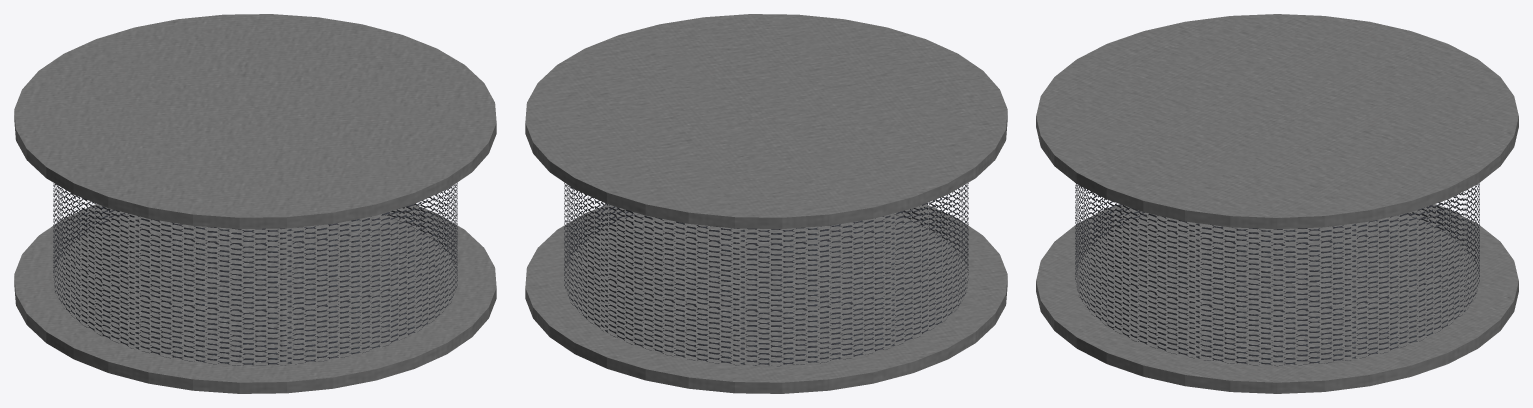
File: hat.fbx
3 renders of one model, left to right at view 1: azimuth 30°, elevation 25°; view 2: azimuth 150°, elevation 25°; view 3: azimuth 270°, elevation 25°, orthographic.
Visible parts, largest first — view 1: Hat; view 2: Hat; view 3: Hat.
Part boxes in pixels (box(x1,y1,x2,y2)): Hat: box(14, 14, 496, 393); Hat: box(525, 14, 1007, 393); Hat: box(1036, 14, 1518, 393).
Size of the model in its own units: 95.42 by 38.38 by 95.42.
